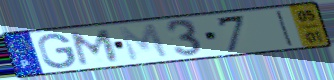3: (167, 18, 203, 59)
7: (214, 15, 250, 53)
G: (36, 32, 78, 70)
I: (275, 9, 296, 48)
M: (116, 22, 172, 63), (70, 28, 121, 67)
